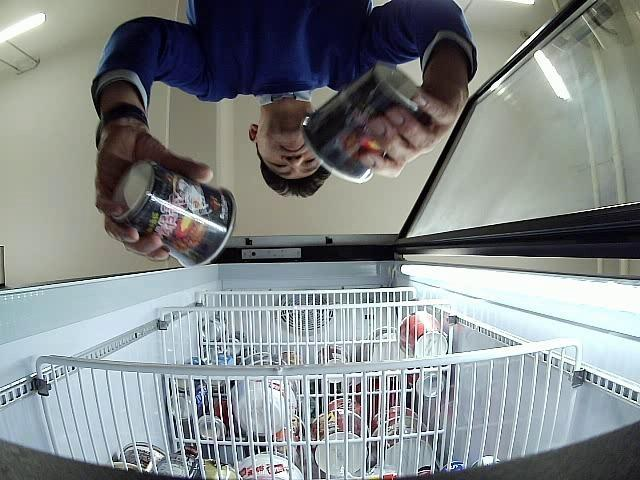08_buldak_S: (301, 63, 420, 184), (110, 161, 237, 269)
